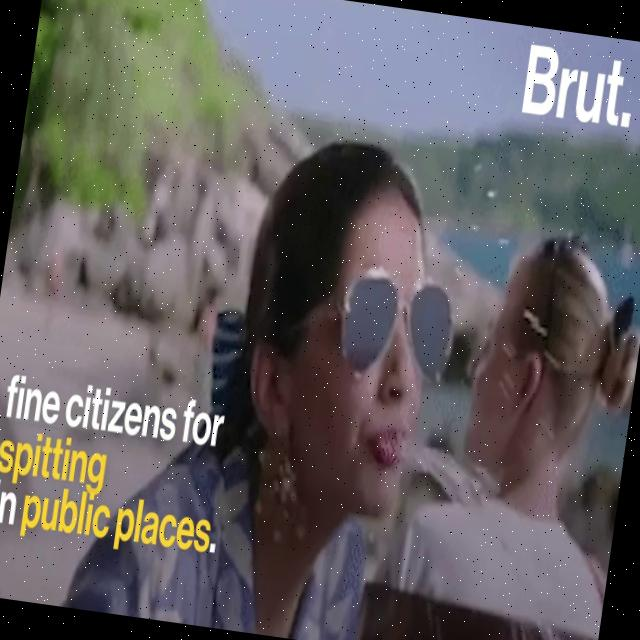spit: (350, 304, 599, 640)
